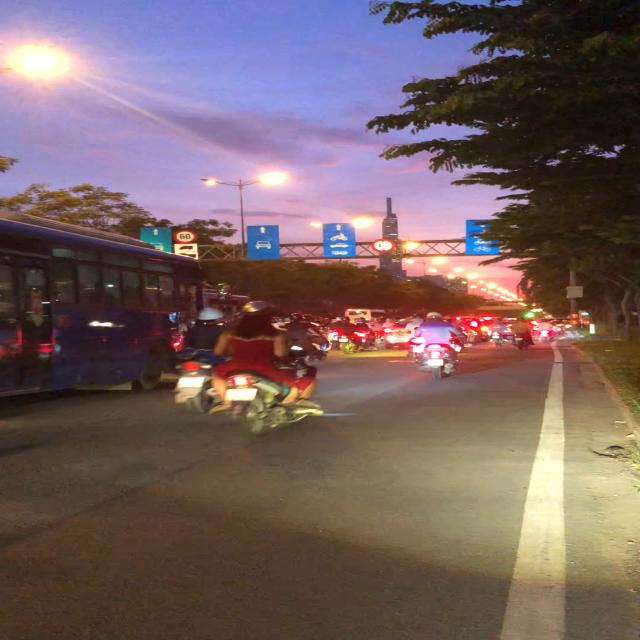Bien bao han che chieu cao: (370, 237, 398, 253)
Bien bao toc do toi da cho phep: (170, 228, 204, 244)
